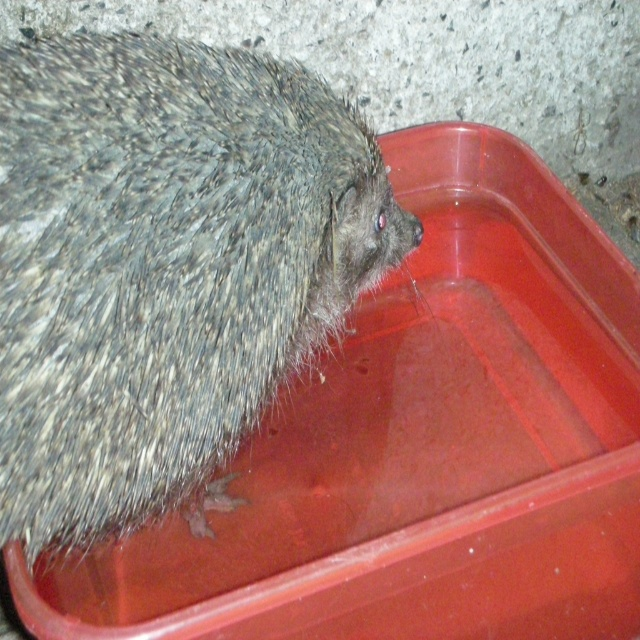Hedgehog: (0, 30, 425, 584)
